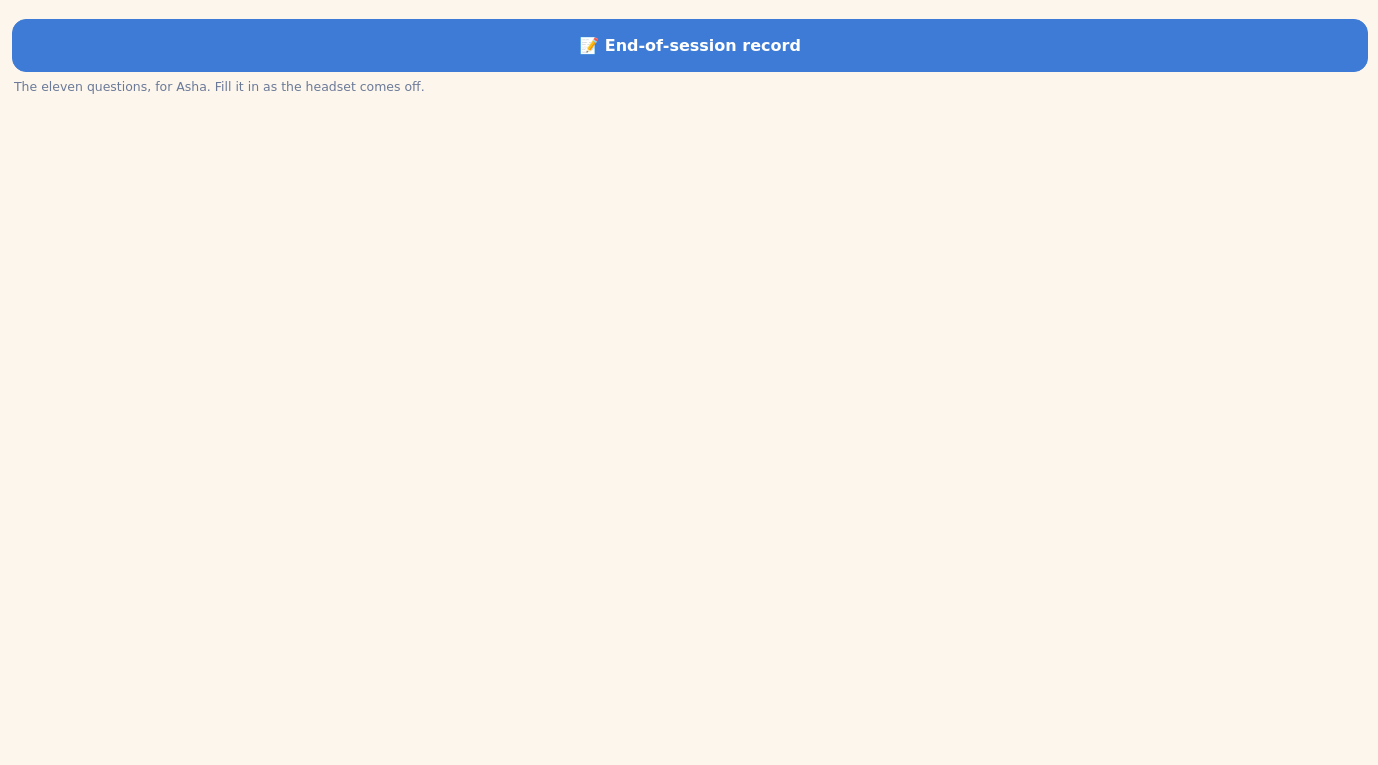
Test: SessionExperienceForm › tells the trainer when a record is only saved on the device
The width and height of the screenshot is (1378, 765).
What coordinates should you click on to do the following:
click the button "📝 End-of-session record"
I would click on:
 (690, 46)
Its box is [12,19,1368,72].
(page scrolled)
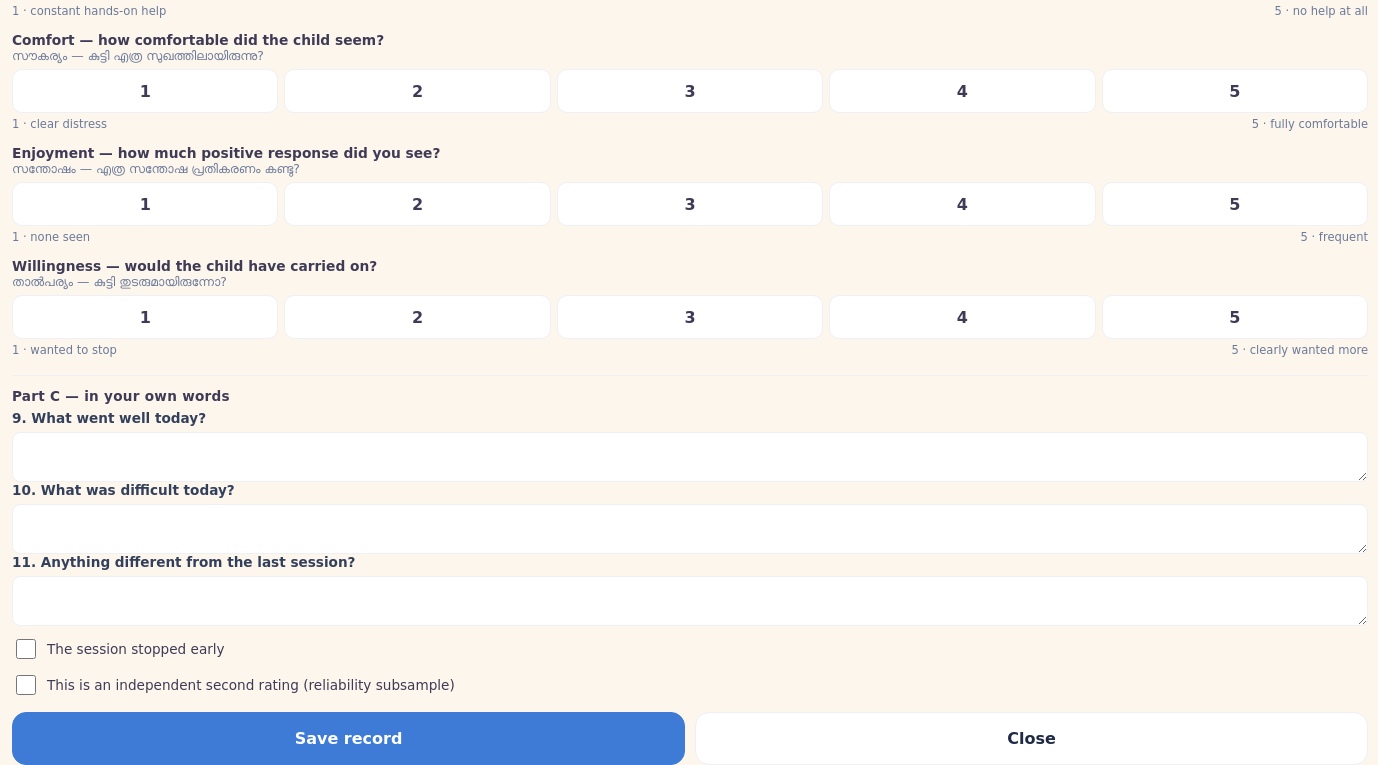
What coordinates should you click on to do the following:
click the button "Save record"
I would click on:
 (348, 739)
Its box is [12,712,685,764].
(page scrolled)
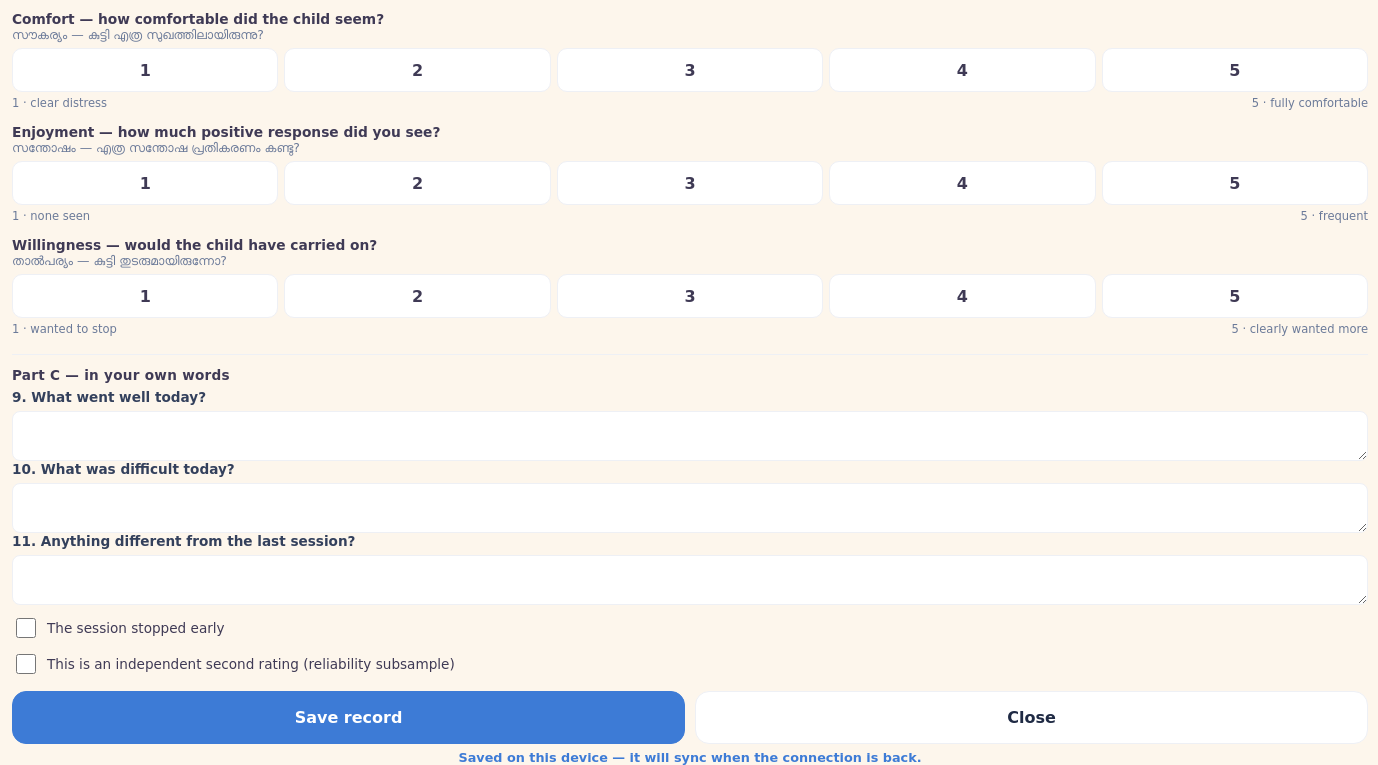
Expected: the text "Saved on this device" is shown, [458,750,922,764]
